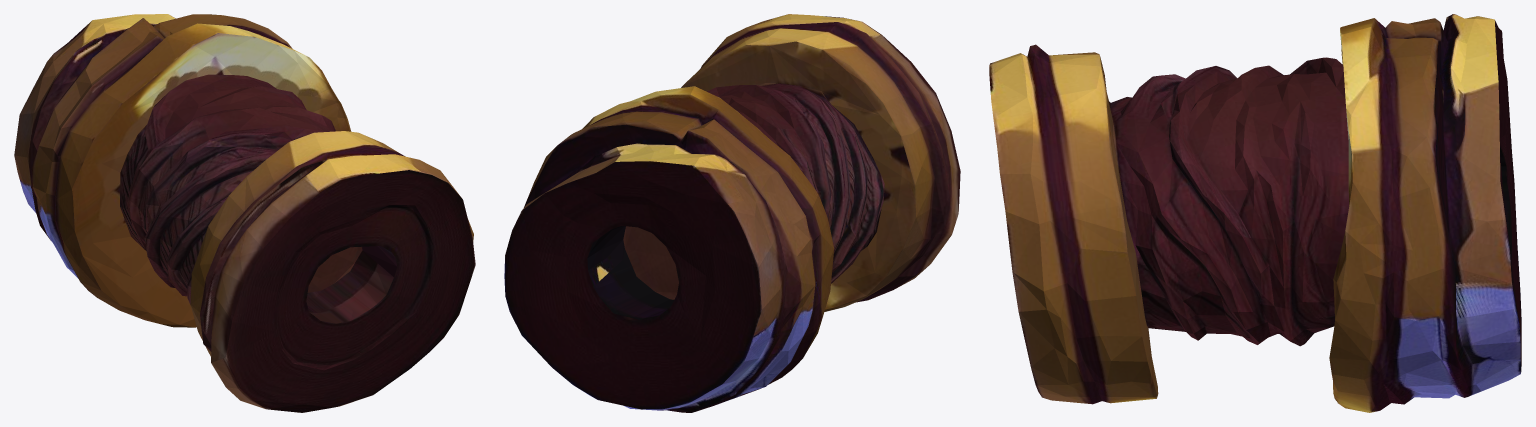
Rendered from rope_spool.glb.
The picture shows the model from 3 angles, left to right: view 1: azimuth 30°, elevation 25°; view 2: azimuth 150°, elevation 25°; view 3: azimuth 270°, elevation 25°; orthographic projection. The views are drawn at different scales.
Visible parts, largest first — view 1: tmp8e2zr78q.ply; view 2: tmp8e2zr78q.ply; view 3: tmp8e2zr78q.ply.
Boxes of the visible parts, bbox=[...] form: tmp8e2zr78q.ply: bbox=[14, 14, 475, 412]; tmp8e2zr78q.ply: bbox=[504, 14, 960, 412]; tmp8e2zr78q.ply: bbox=[989, 14, 1521, 412].
Size of the model in its own units: 1.5 by 1.52 by 1.99.
Materials: 1 (1 with a texture image).
